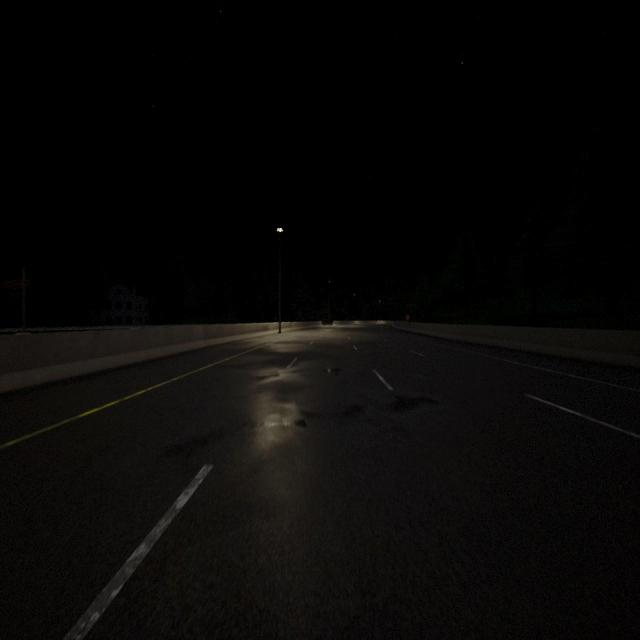Traffic_Signs: (406, 314, 409, 320)
